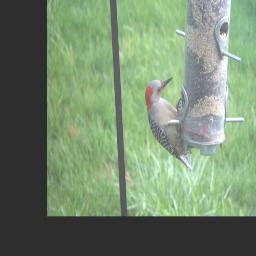Woodpecker: (146, 77, 194, 172)
